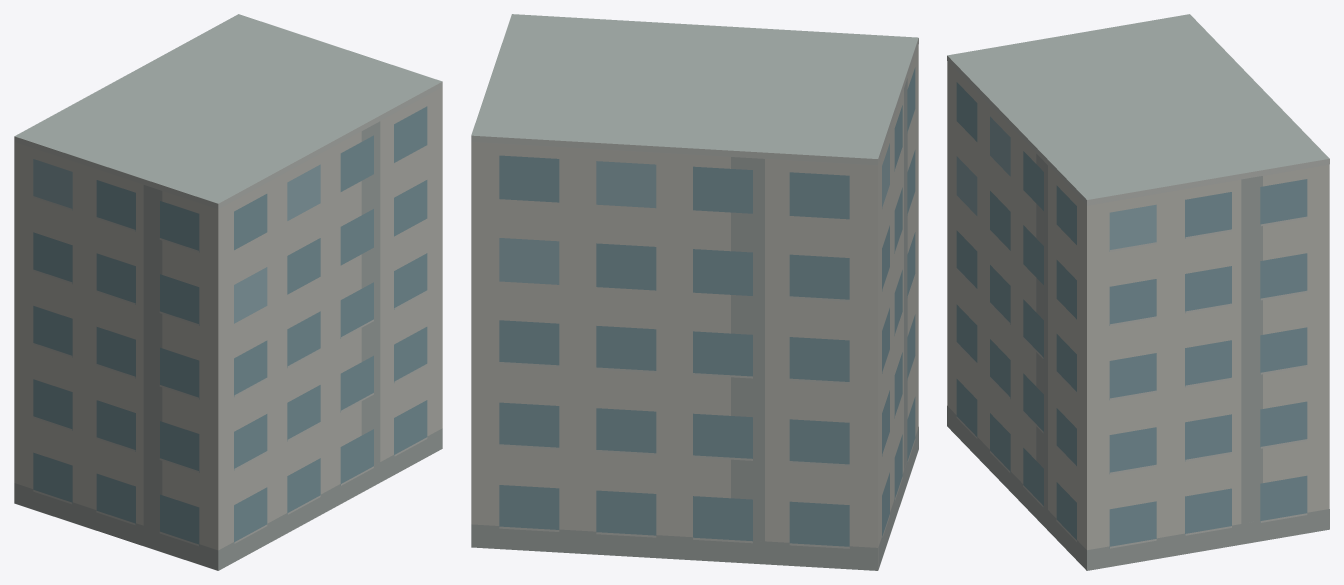
File: survey-upis-32853769.glb
The picture shows the model from 3 angles, left to right: view 1: azimuth 30°, elevation 25°; view 2: azimuth 150°, elevation 25°; view 3: azimuth 270°, elevation 25°; orthographic projection. The views are drawn at different scales.
Visible parts, largest first — view 1: survey-upis-32853769.tmp; view 2: survey-upis-32853769.tmp; view 3: survey-upis-32853769.tmp.
Boxes of the visible parts, <box> form: survey-upis-32853769.tmp: <box>14,14,442,570</box>; survey-upis-32853769.tmp: <box>471,14,918,570</box>; survey-upis-32853769.tmp: <box>947,14,1329,570</box>.
Bounding box in the file's own units: 17.12 × 15.9 × 14.88.
